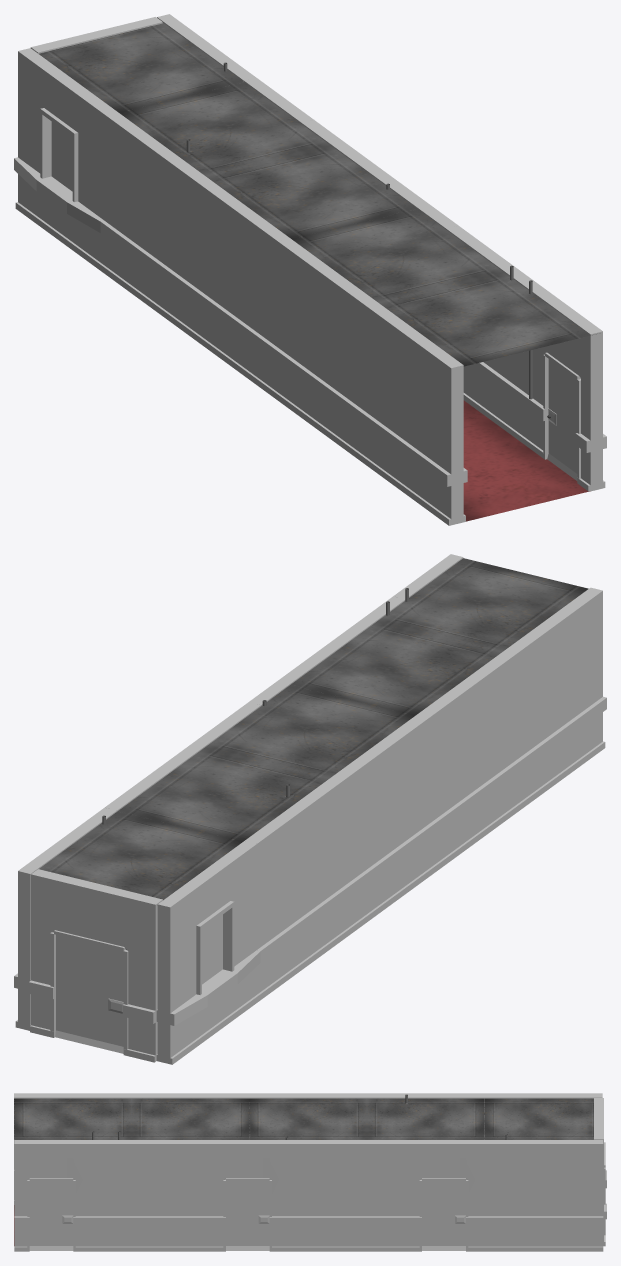
File: SM_ModularCorridor_JamesMcNamara.fbx
3 renders of one model, top to bottom at view 1: azimuth 30°, elevation 25°; view 2: azimuth 150°, elevation 25°; view 3: azimuth 270°, elevation 25°, orthographic. The views are drawn at different scales.
Visible parts, largest first — view 1: SM_ceiling, SM_WallFull, SM_WallFull4, SM_WallFull2, SM_WallWindow, SM_DoorWall2, SM_Carpet, SM_WallHalf2, SM_WallHalf, SM_WallFull7, SM_WallFull5, SM_WallFull6 (+3 smaller); view 2: SM_ceiling, SM_DoorWall4, SM_WallWindow, SM_WallFull2, SM_WallFull4, SM_WallFull, SM_WallHalf2, SM_WallHalf, SM_WallFull6, SM_WallFull5, SM_WallFull7, SM_DoorWall3 (+2 smaller); view 3: SM_ceiling, SM_WallFull6, SM_WallFull5, SM_WallFull7, SM_DoorWall1, SM_DoorWall2, SM_DoorWall3, SM_DoorWall4, SM_WallFull, SM_WallFull2, SM_WallFull4, SM_WallWindow (+2 smaller).
Part boxes in pixels (box(x1,y1,x2,y2)): SM_ceiling: box(38, 22, 600, 366); SM_WallFull: box(360, 302, 467, 525); SM_WallFull4: box(100, 111, 203, 335); SM_WallFull2: box(274, 238, 376, 461); SM_WallWindow: box(14, 48, 116, 271); SM_DoorWall2: box(529, 289, 606, 491); SM_Carpet: box(463, 400, 590, 521); SM_WallHalf2: box(187, 175, 246, 367); SM_WallHalf: box(230, 206, 289, 398); SM_WallFull7: box(446, 225, 544, 448); SM_WallFull5: box(301, 120, 400, 185); SM_WallFull6: box(157, 14, 255, 81); SM_ceiling: box(39, 558, 588, 905); SM_DoorWall4: box(28, 869, 162, 1062); SM_WallWindow: box(156, 841, 260, 1064); SM_WallFull2: box(418, 651, 520, 874); SM_WallFull4: box(245, 777, 347, 1001); SM_WallFull: box(504, 587, 606, 810); SM_WallHalf2: box(331, 746, 390, 937); SM_WallHalf: box(374, 714, 433, 905); SM_WallFull6: box(14, 807, 116, 1030); SM_WallFull5: box(163, 702, 261, 768); SM_WallFull7: box(307, 596, 405, 663); SM_DoorWall3: box(105, 765, 174, 811); SM_ceiling: box(14, 1098, 593, 1143); SM_WallFull6: box(485, 1140, 603, 1251); SM_WallFull5: box(289, 1140, 406, 1251); SM_WallFull7: box(93, 1140, 210, 1251); SM_DoorWall1: box(210, 1140, 289, 1251); SM_DoorWall2: box(14, 1140, 92, 1251); SM_DoorWall3: box(407, 1140, 485, 1251); SM_DoorWall4: box(594, 1098, 606, 1246); SM_WallFull: box(14, 1093, 131, 1204); SM_WallFull2: box(131, 1093, 249, 1098); SM_WallFull4: box(367, 1093, 484, 1098); SM_WallWindow: box(485, 1093, 602, 1098).
Size of the model in its own units: 3.3 by 3.22 by 15.1.
